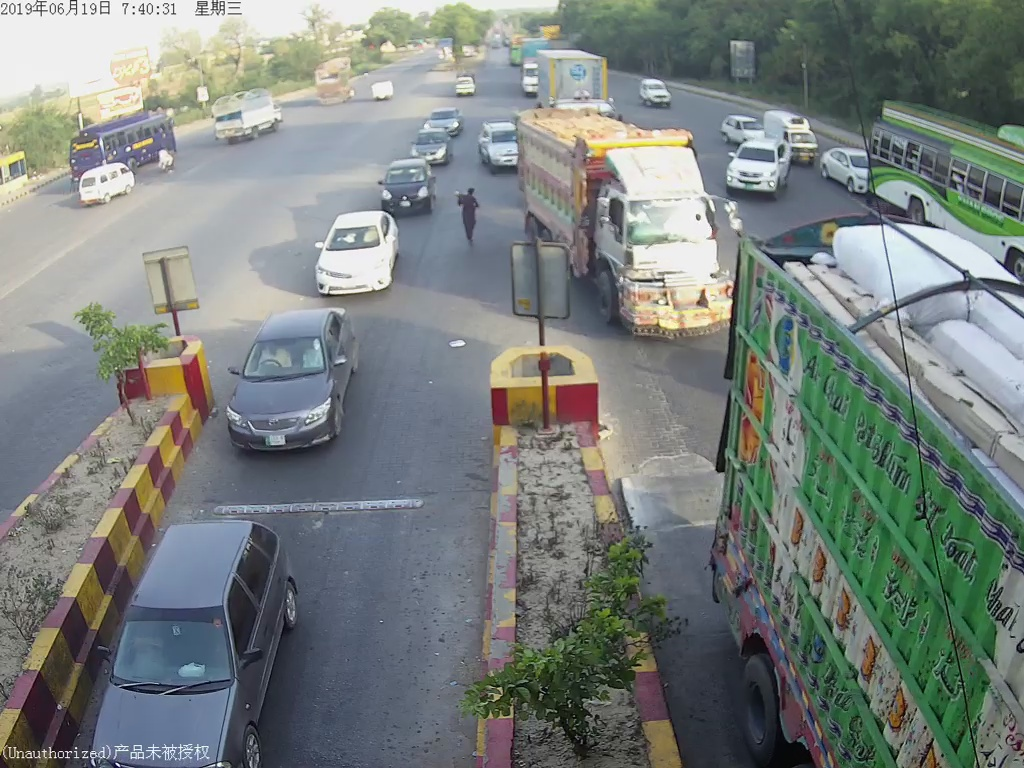Cat-1: (106, 527, 304, 739), (221, 313, 361, 456), (314, 215, 397, 295), (378, 164, 431, 213)
Cat-4: (517, 117, 724, 345)
